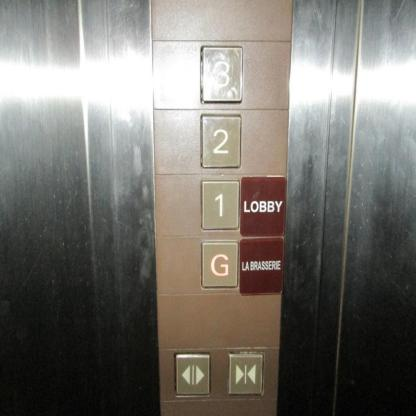1: (199, 176, 241, 232)
2: (198, 110, 243, 171)
3: (198, 42, 244, 104)
G: (199, 236, 240, 290)
close: (226, 347, 266, 398)
open: (172, 349, 212, 400)
